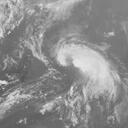cyclone: (54, 37, 114, 95)
